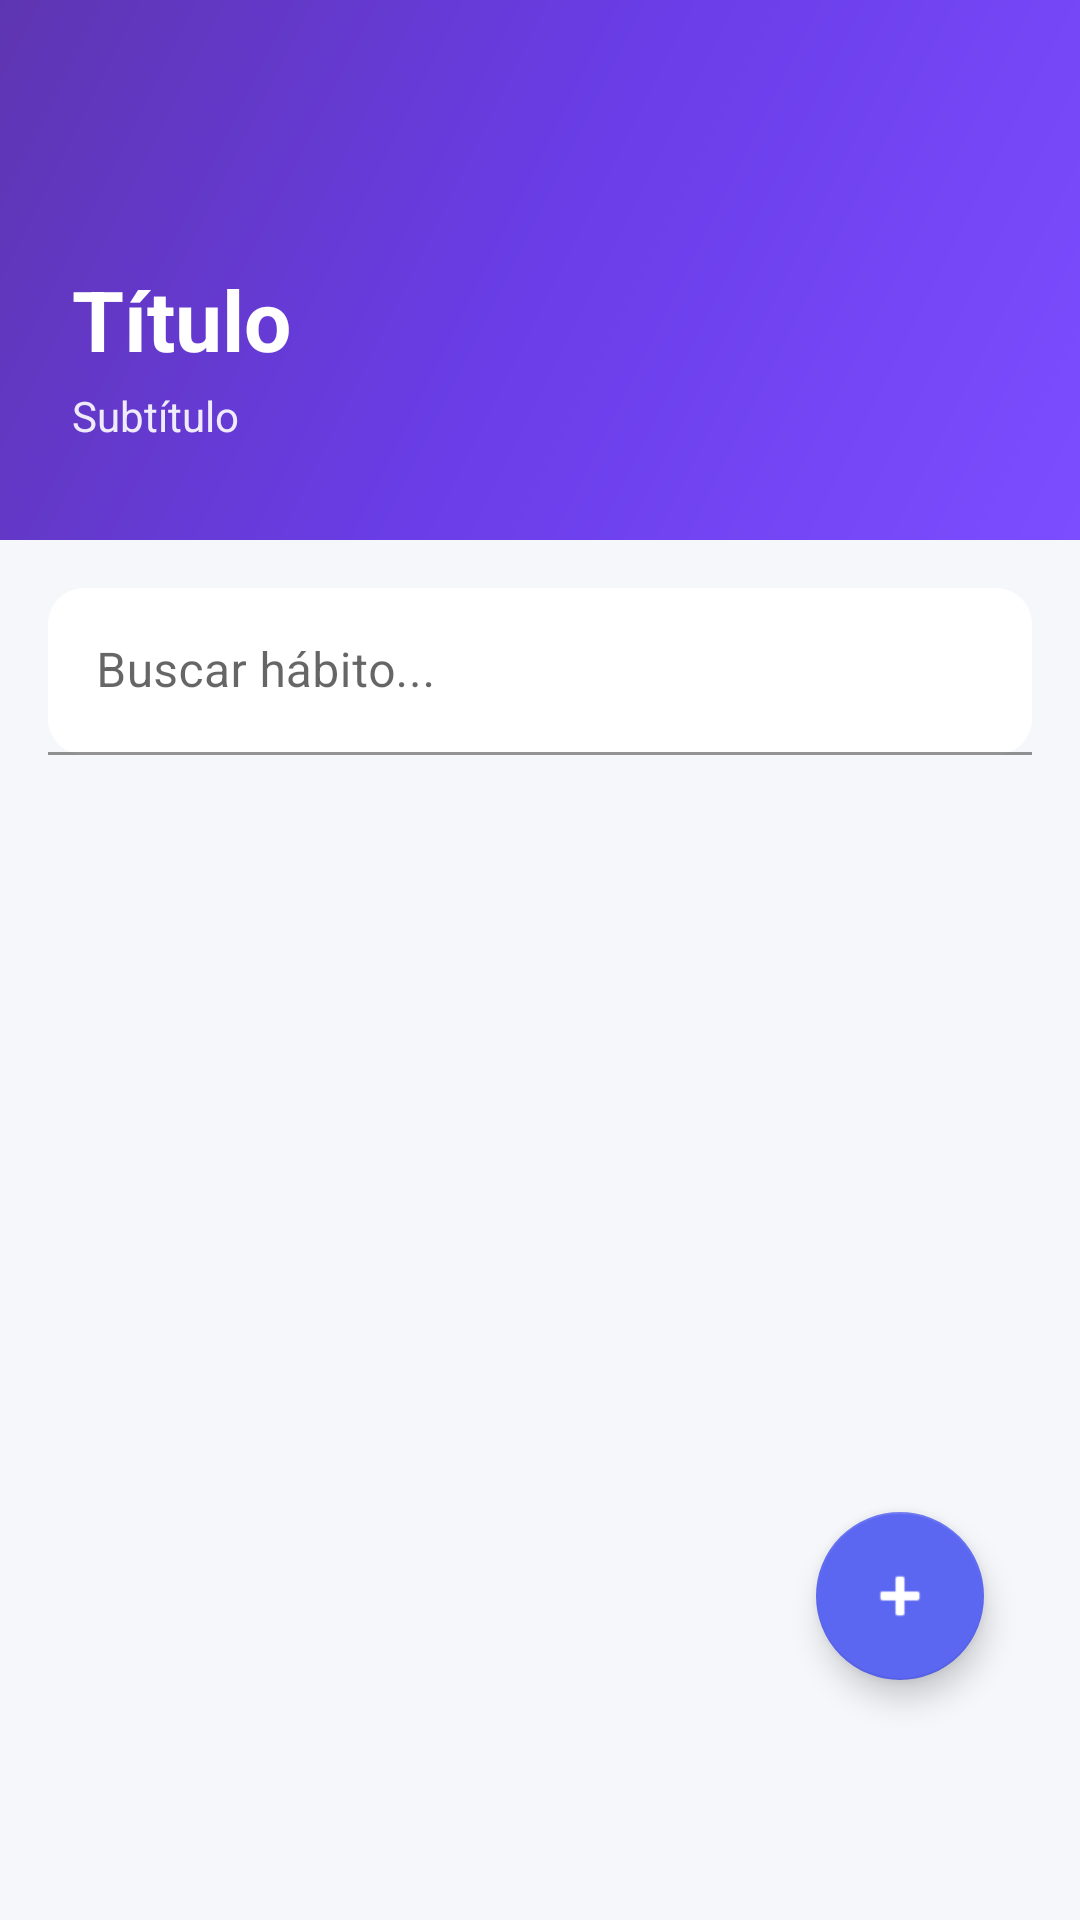

Named icons in this screenshot (1080×1920) and their bounding boxes, (x1, y1, x2, y2):
Agregar: (816, 1512, 984, 1680)
